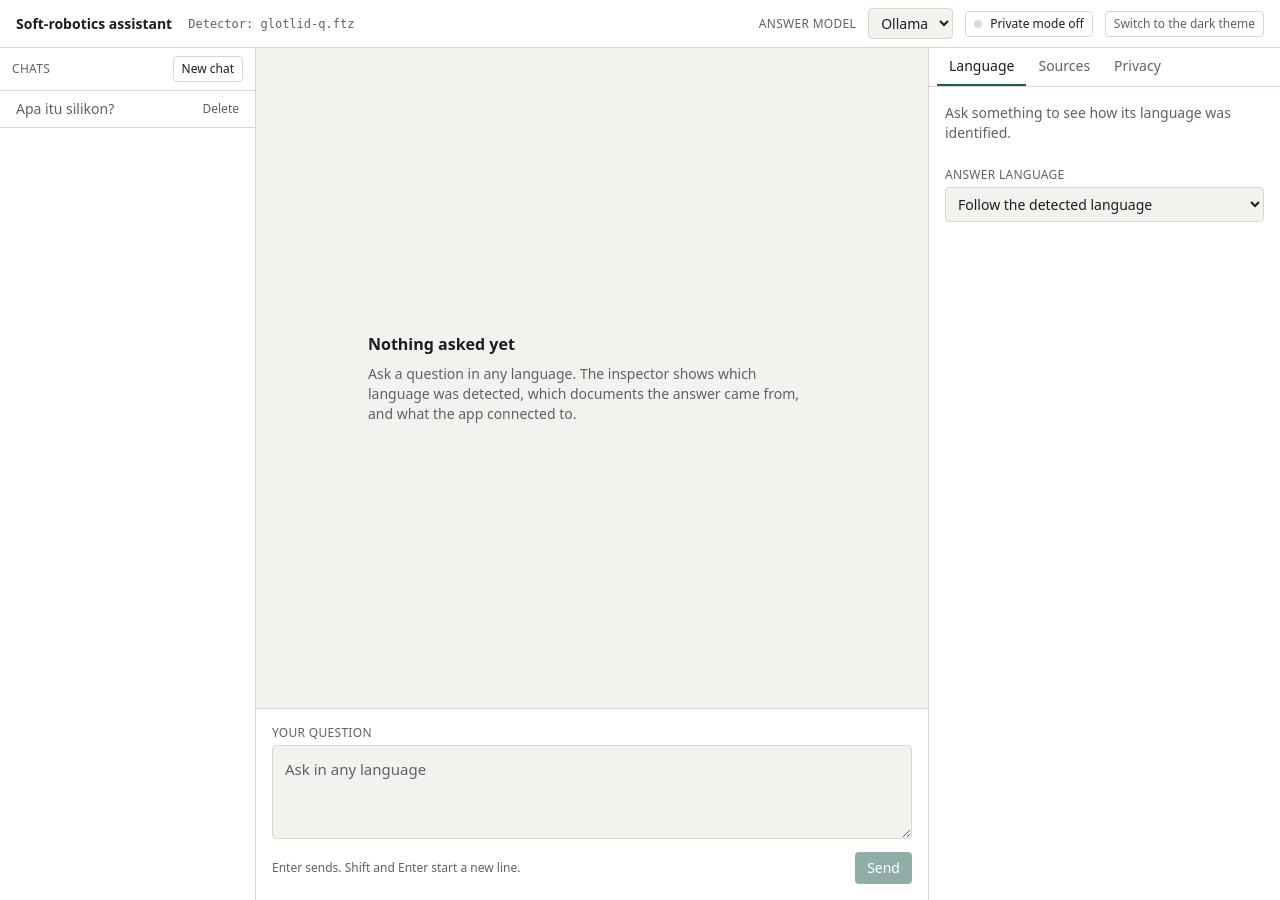
Test: App › resets the transcript when the chat currently open is deleted
Click the button with aria-label "Open chat: Apa itu silikon?".
click(99, 109)  # box top-left (8, 95), bottom-right (190, 123)
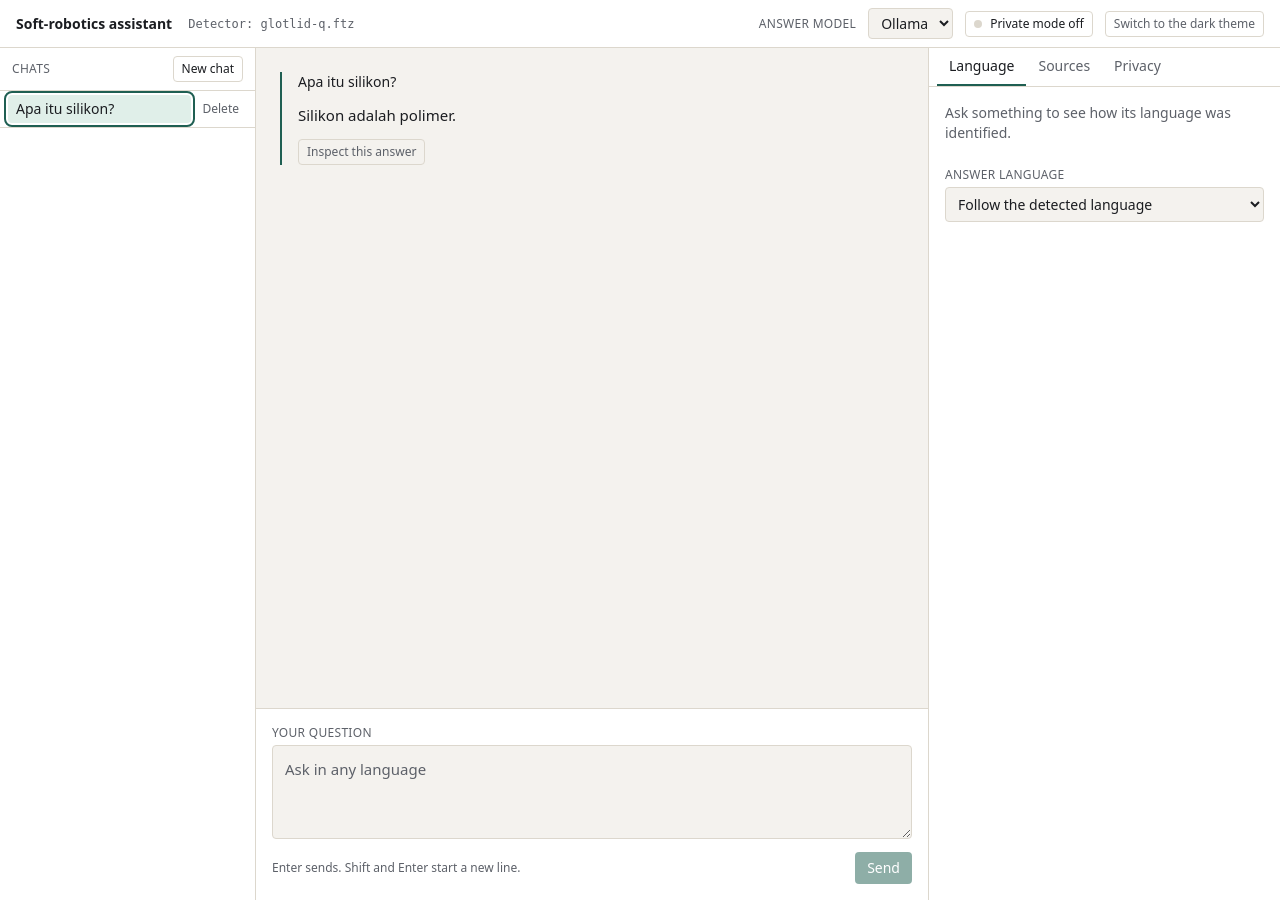
Check: the text "Silikon adalah polimer." is shown, box top-left (298, 105), bottom-right (456, 125)
Click the button with aria-label "Delete chat: Apa itu silikon?".
click(221, 109)  # box top-left (194, 97), bottom-right (247, 121)
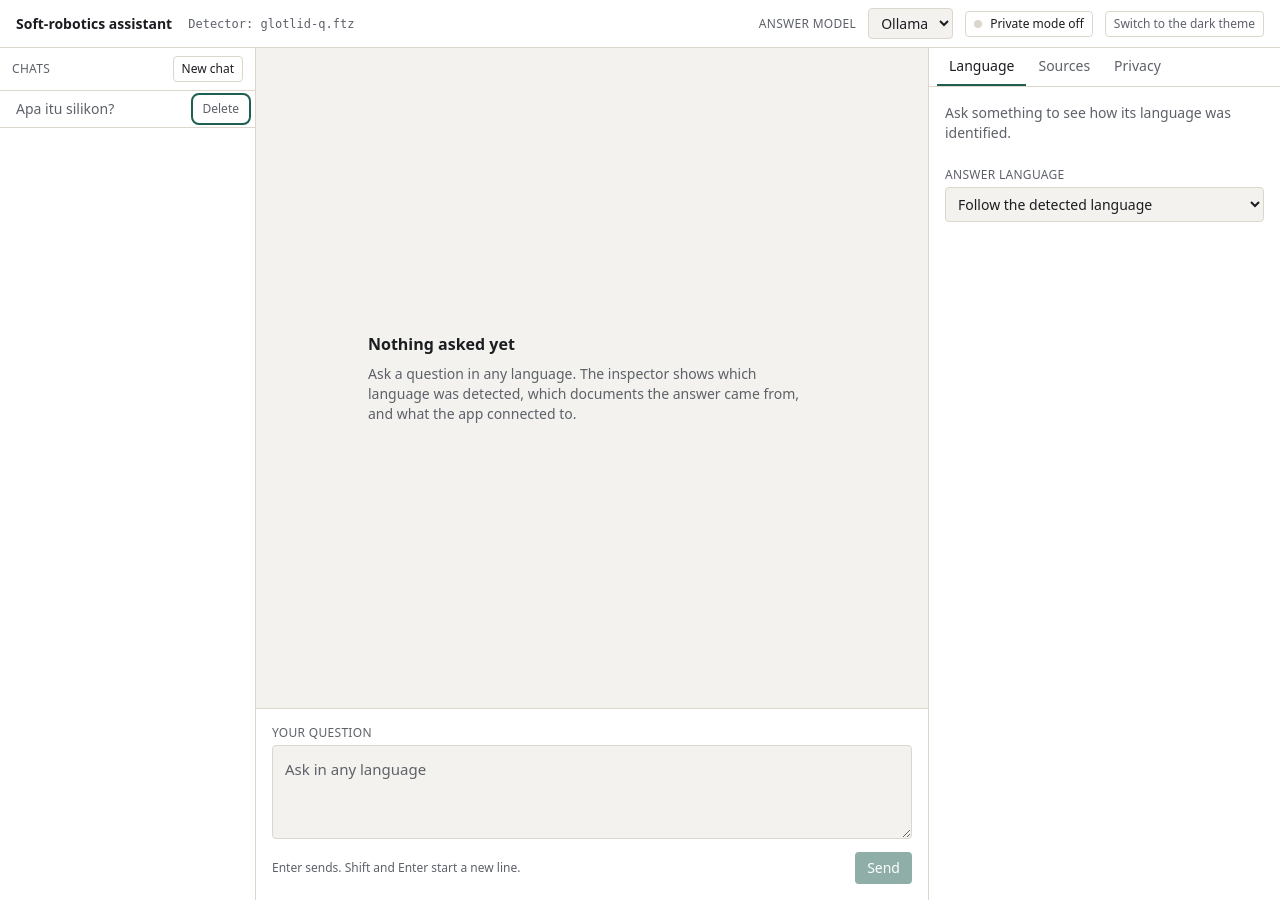
Check: the text "Silikon adalah polimer." is gone
Check: the heading "Nothing asked yet" is shown, box top-left (368, 333), bottom-right (515, 355)
